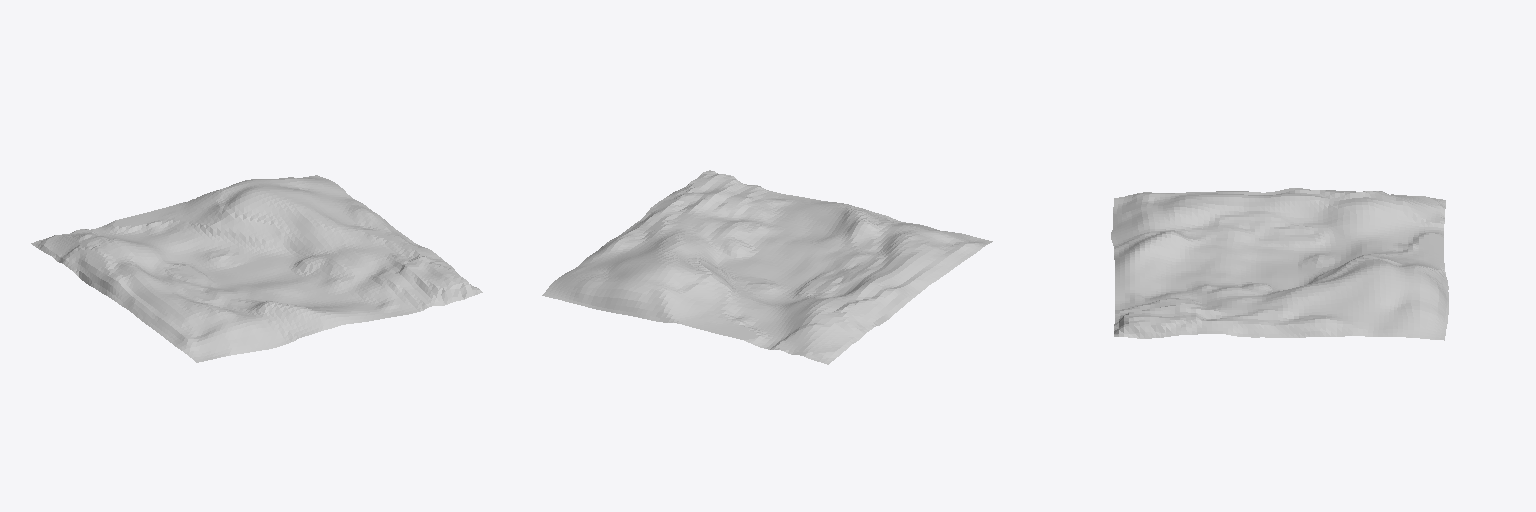
Rendered from snowground.obj.
3 views of the same model, side by side, from view 1: azimuth 30°, elevation 25°; view 2: azimuth 150°, elevation 25°; view 3: azimuth 270°, elevation 25° (orthographic).
Bounding box in the file's own units: 63.5 × 6.28 × 63.96.